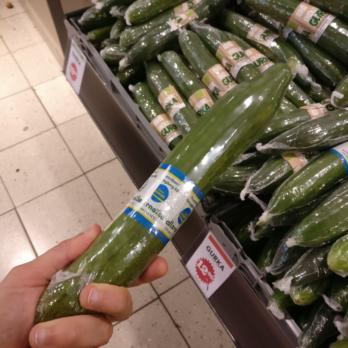Cucumber: (35, 59, 294, 319), (249, 130, 348, 278), (112, 48, 348, 104), (85, 4, 348, 45), (291, 279, 348, 342)
